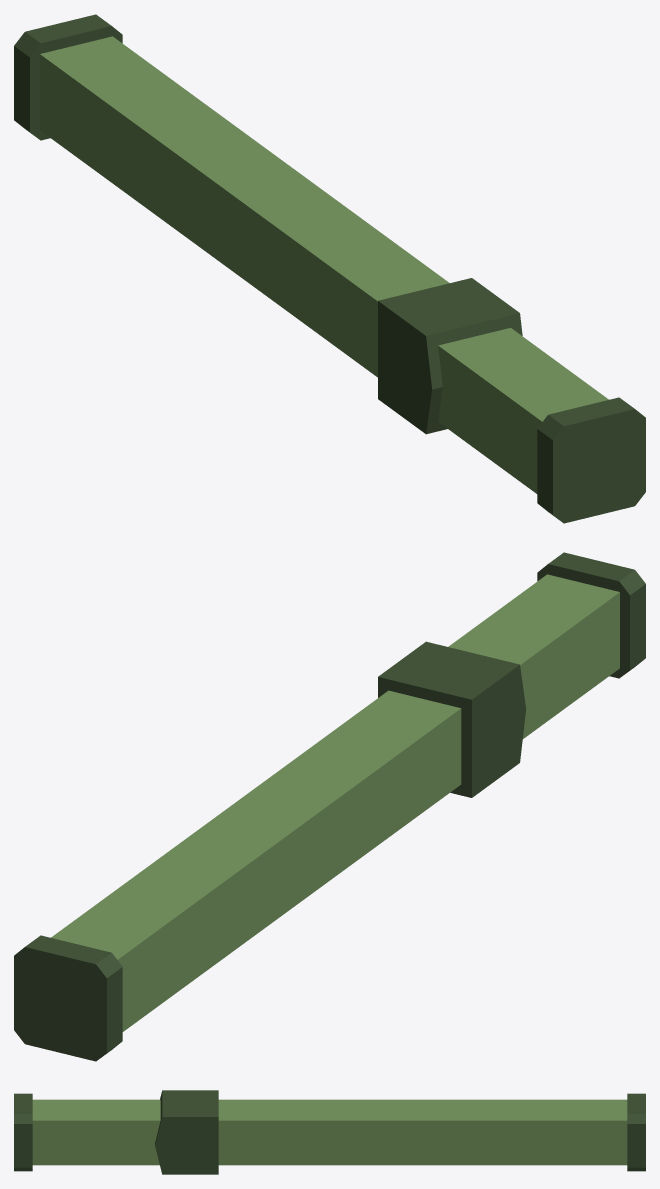
File: GunHolder-col.glb
The picture shows the model from 3 angles, top to bottom: view 1: azimuth 30°, elevation 25°; view 2: azimuth 150°, elevation 25°; view 3: azimuth 270°, elevation 25°; orthographic projection. The views are drawn at different scales.
Parts seen in each view (by area): view 1: GunHolder-col; view 2: GunHolder-col; view 3: GunHolder-col.
Part boxes in pixels (x1,y1,x2,y2): GunHolder-col: [14, 14, 645, 523]; GunHolder-col: [14, 552, 645, 1061]; GunHolder-col: [14, 1090, 645, 1174].
Size of the model in its own units: 0.4 by 0.4 by 3.97.
